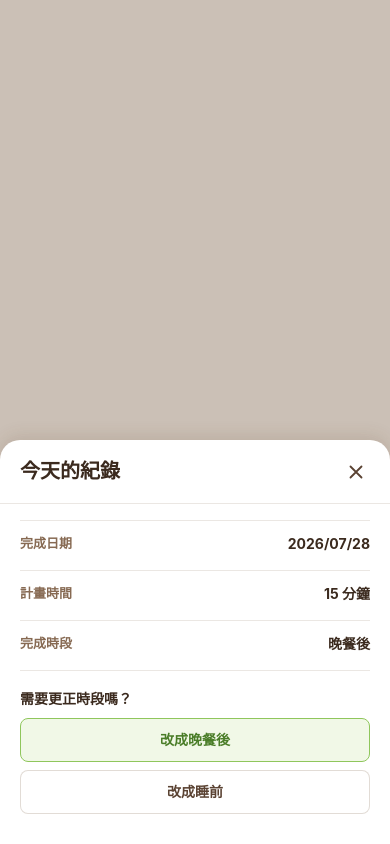
Test case: LongTermGoalDetailSheets › shows the real completion record and corrects its time window
Expected: the text "2026/07/28" is shown, [288,535,370,552]
Expected: the text "15 分鐘" is shown, [324,585,370,602]
Click the button "改成睡前". click: point(195, 792)
box: [20,770,370,814]
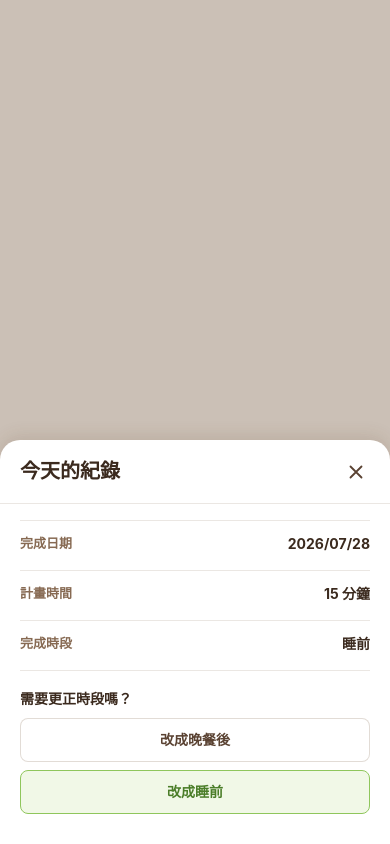
Result: the text "睡前" is shown at [342,635,370,652]
